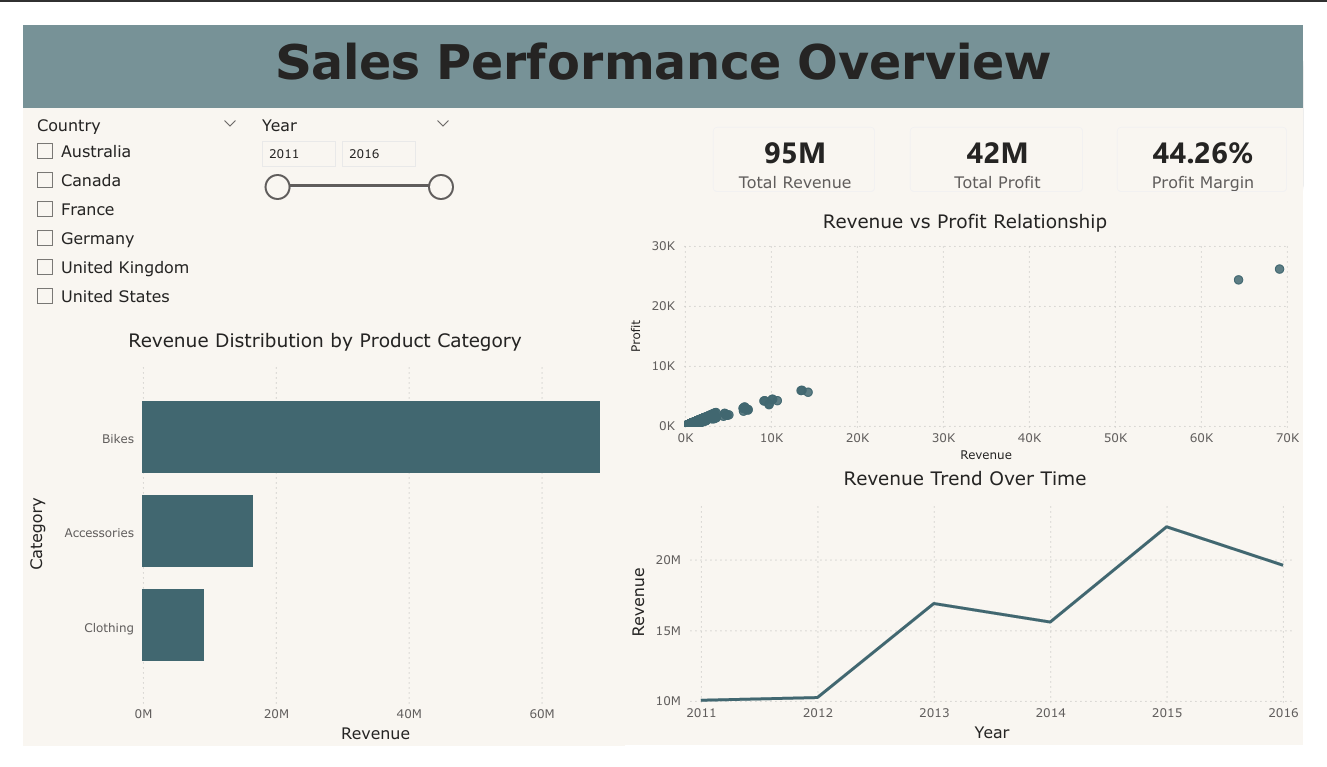

What the dashboard file says about the page in this screenshot:
{"tool":"powerbi","page":{"name":"Overview","canvas":[1280,720],"ordinal":0},"visuals":[{"type":"cardVisual","fields":{"Data":["Sum(Sales_Cleaned.Revenue)"]},"box":[672.1,83.6,196.5,99.2],"z":0},{"type":"cardVisual","fields":{"Data":["Sum(Sales_Cleaned.Profit)"]},"box":[868.6,83.6,207.2,99.2],"z":1000},{"type":"cardVisual","fields":{"Data":["Sales_Cleaned.Profit Margin"]},"box":[1075.7,83.6,204.3,99.2],"z":2000},{"type":"lineChart","title":"Revenue Trend Over Time","fields":{"Category":["Sales_Cleaned.Year"],"Y":["Sum(Sales_Cleaned.Revenue)"]},"box":[602.4,440.5,677.9,279.9],"z":3000},{"type":"barChart","title":"Revenue Distribution by Product Category","fields":{"Y":["Sum(Sales_Cleaned.Revenue)"],"Category":["Sales_Cleaned.Product_Category"]},"box":[0,301.5,602.1,419.2],"z":4000},{"type":"slicer","fields":{"Values":["Sales_Cleaned.Country"]},"box":[0,83.6,224.7,217.9],"z":5000},{"type":"textbox","box":[0,0,1280,83.2],"z":6000},{"type":"scatterChart","title":"Revenue vs Profit Relationship","fields":{"Y":["Sales_Cleaned.Profit"],"X":["Sales_Cleaned.Revenue"]},"box":[602.1,182.9,677.9,257.8],"z":7000},{"type":"slicer","fields":{"Values":["Sales_Cleaned.Year"]},"box":[224.7,83.6,213,217.9],"z":8000}]}

Visuals, with their boxes in screenshot pixels (x1, y1, x2, y2), scaled from the page's 1280x720 canvas onto the 1327x767 screenshot:
cardVisual - Sum(Sales_Cleaned.Revenue): box=[697, 89, 900, 195]
cardVisual - Sum(Sales_Cleaned.Profit): box=[900, 89, 1115, 195]
cardVisual - Sales_Cleaned.Profit Margin: box=[1115, 89, 1326, 195]
"Revenue Trend Over Time" lineChart: box=[625, 469, 1326, 766]
"Revenue Distribution by Product Category" barChart: box=[0, 321, 624, 766]
slicer - Sales_Cleaned.Country: box=[0, 89, 233, 321]
textbox: box=[0, 0, 1326, 89]
"Revenue vs Profit Relationship" scatterChart: box=[624, 195, 1326, 469]
slicer - Sales_Cleaned.Year: box=[233, 89, 454, 321]
